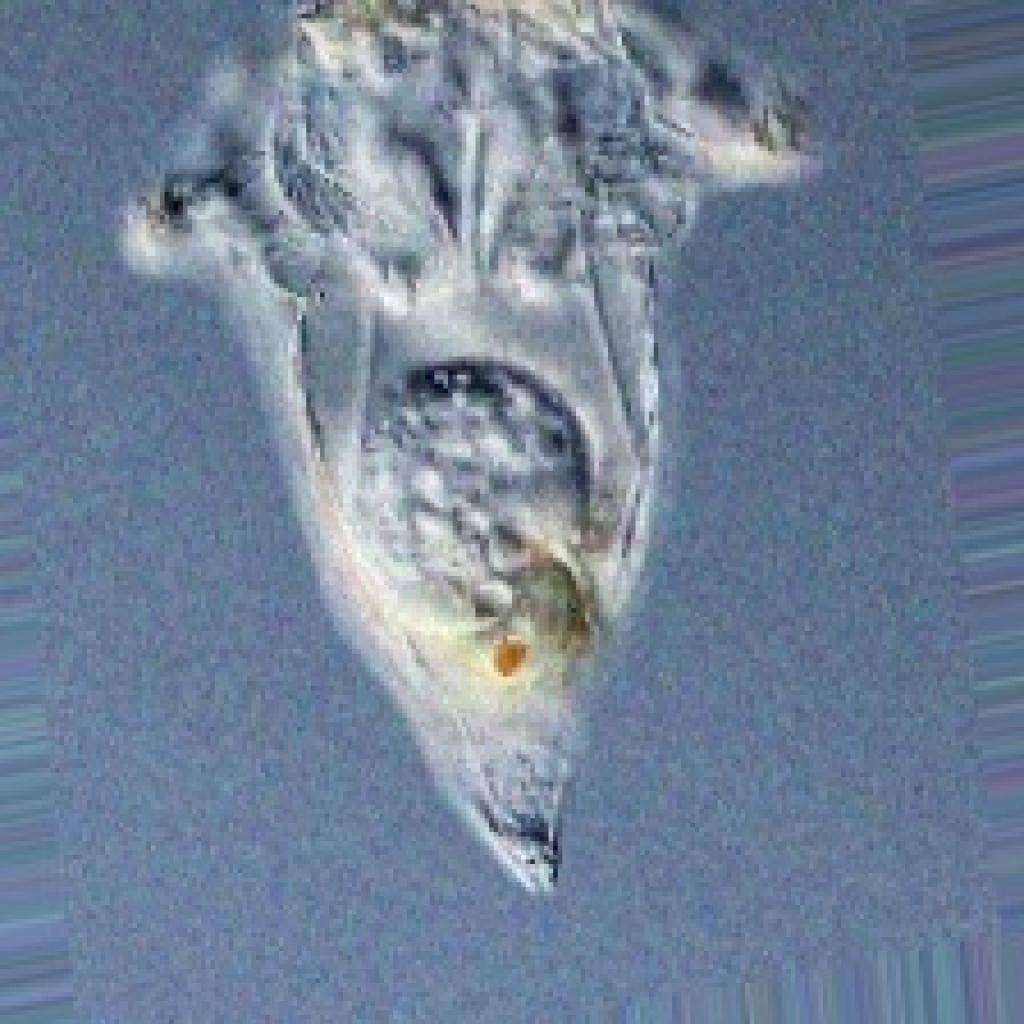Rotifer: (110, 0, 823, 896)
